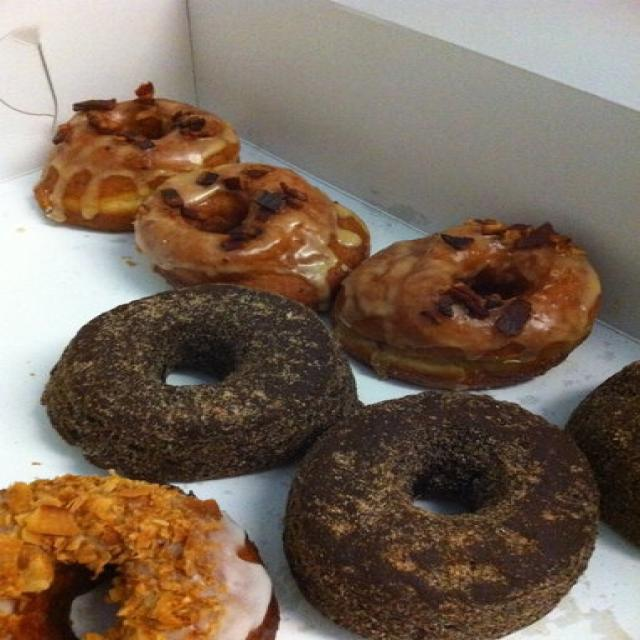Donuts: (1, 79, 640, 640)
